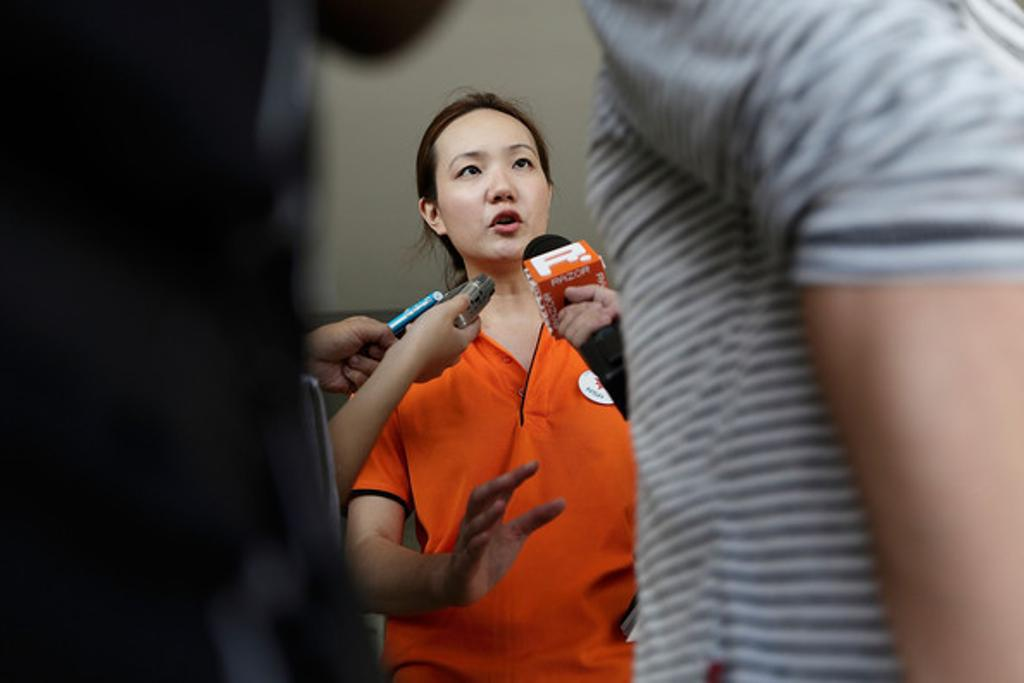face: (439, 119, 551, 261)
